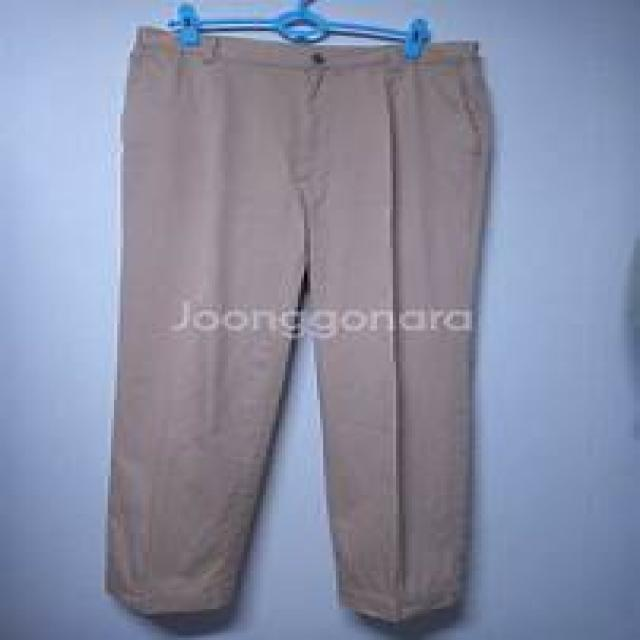long-pants: (107, 24, 497, 624)
